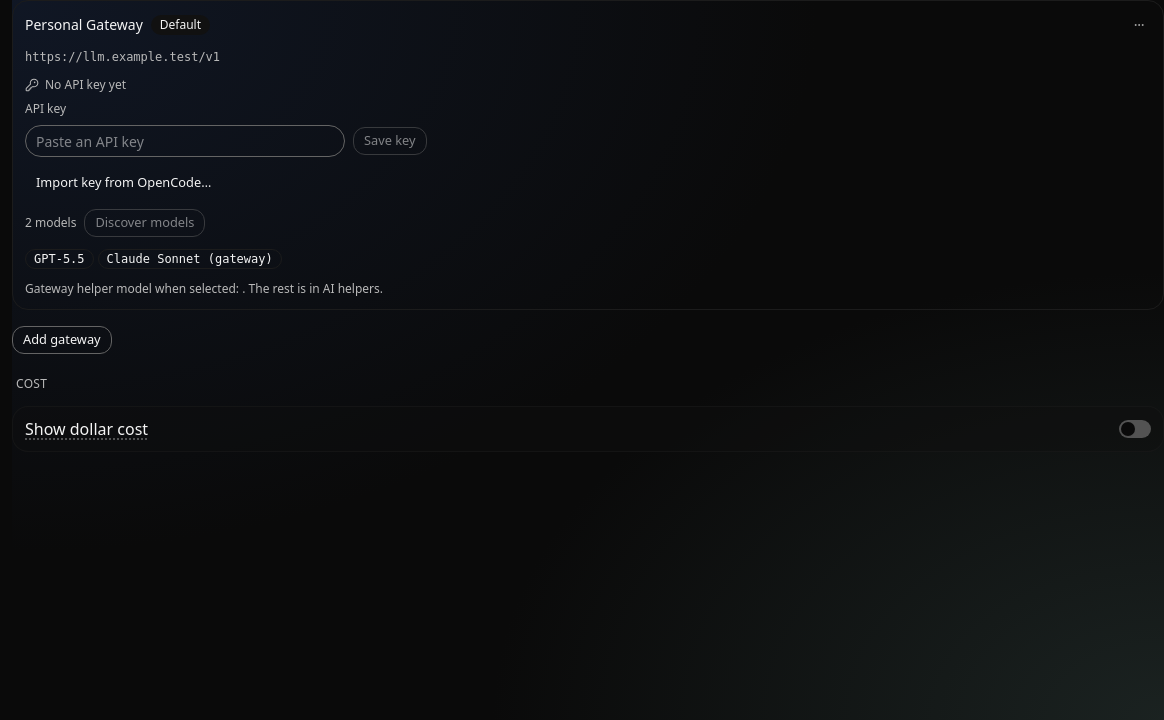
GatewaysSettings › reports a failed model listing without failing the save
In the password field labelled "API key": [185, 141] box [25,125,345,157], type "sk-x"
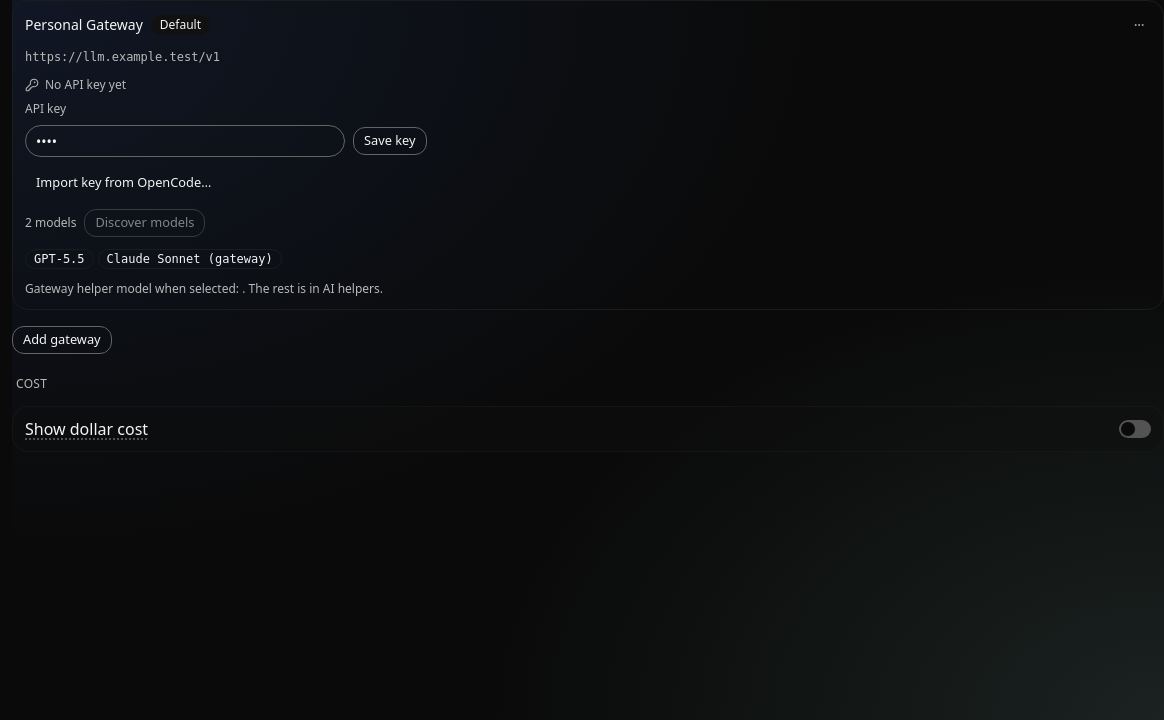
Click the button "Save key": [390, 141] box [353,127,427,155]
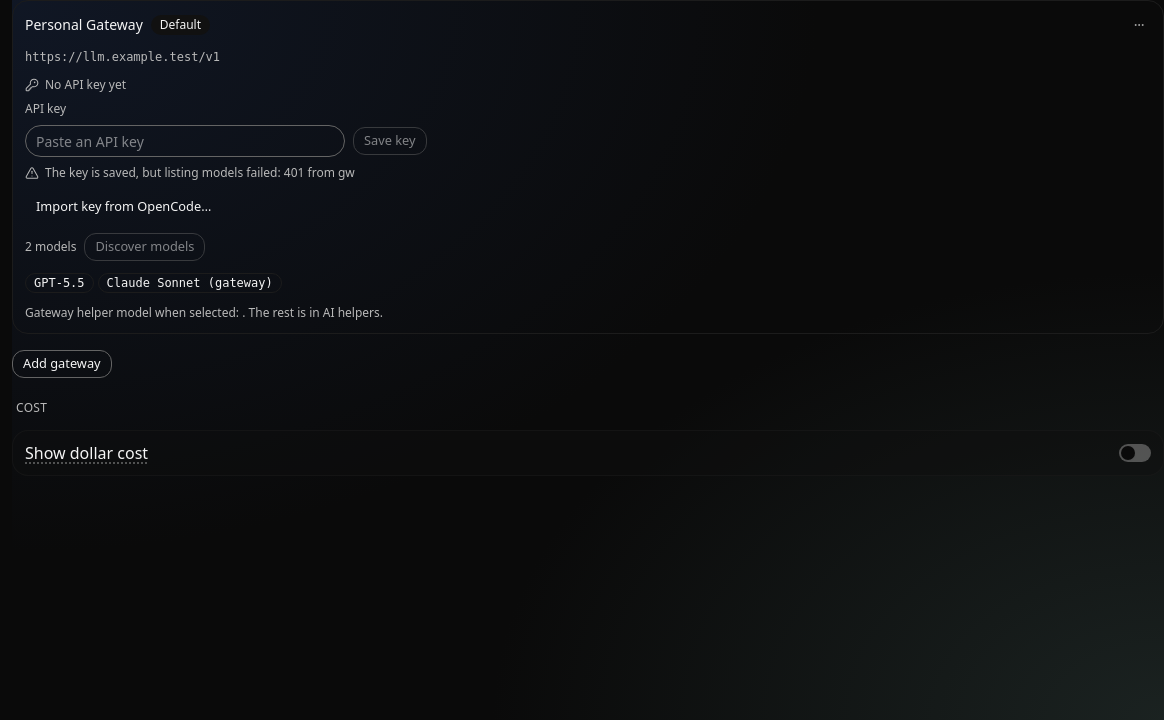
expect the text "The key is saved, but listing models failed: 401 from gw" is shown: met, box [25,164,355,181]
